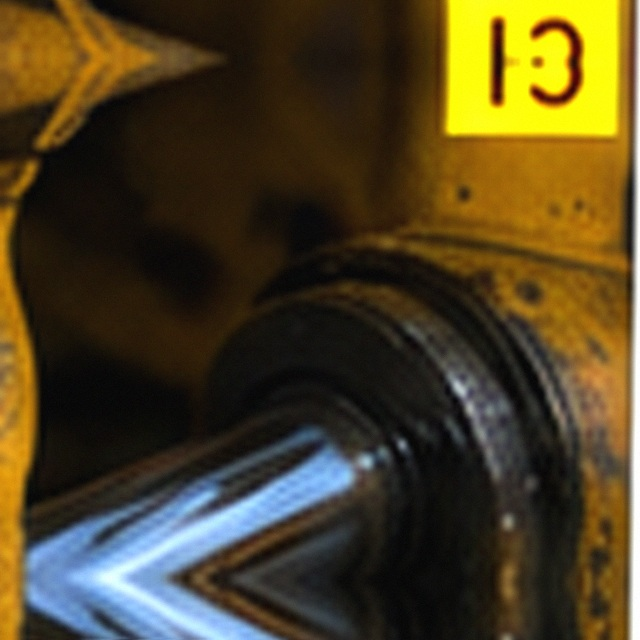hydraulic_oil_leak: (142, 210, 460, 468)
